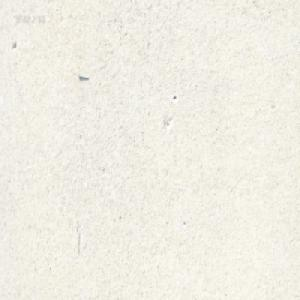Nail: (77, 72, 90, 80)
